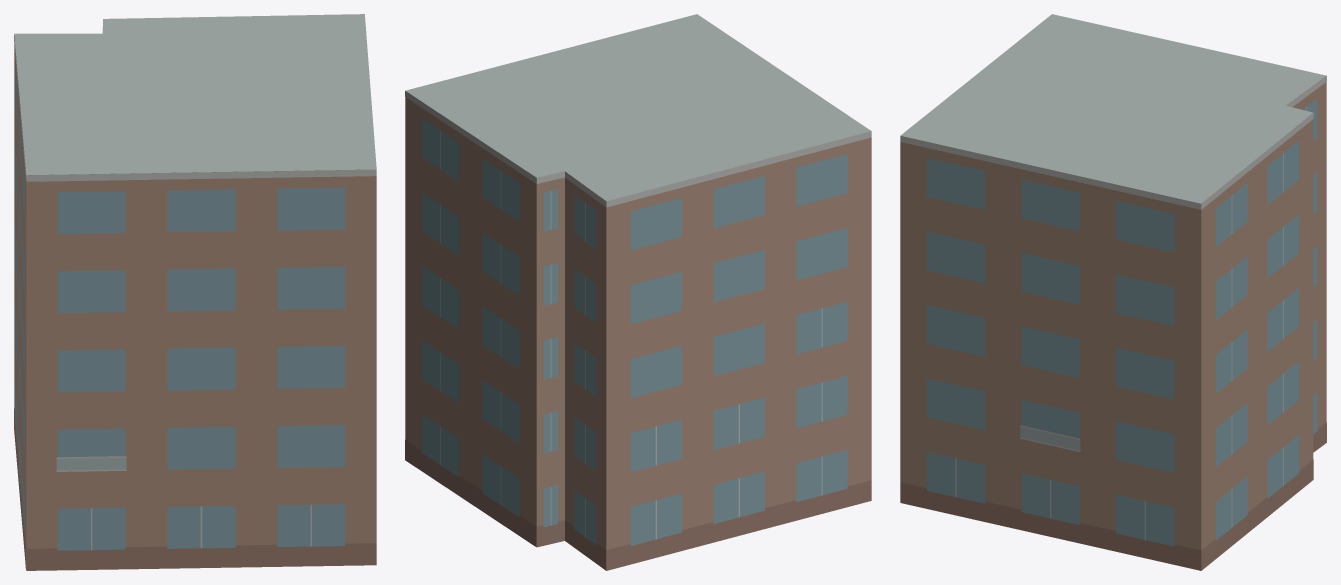
File: survey-upis-33046123.glb
3 renders of one model, left to right at view 1: azimuth 30°, elevation 25°; view 2: azimuth 150°, elevation 25°; view 3: azimuth 270°, elevation 25°, orthographic. The views are drawn at different scales.
Visible parts, largest first — view 1: survey-upis-33046123.tmp; view 2: survey-upis-33046123.tmp; view 3: survey-upis-33046123.tmp.
Boxes of the visible parts, x1,y1,x2,y2 form: survey-upis-33046123.tmp: (14,14,376,570); survey-upis-33046123.tmp: (405,14,871,570); survey-upis-33046123.tmp: (900,14,1326,570).
Bounding box in the file's own units: 16.08 × 14.5 × 15.27.
